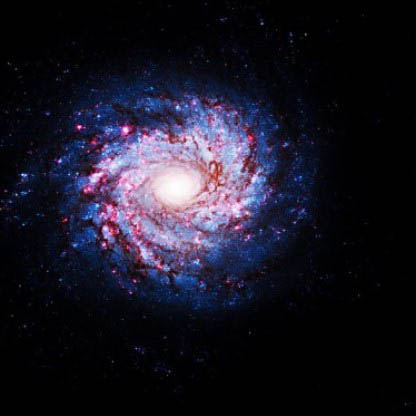NGC 3982: (31, 72, 327, 313)
